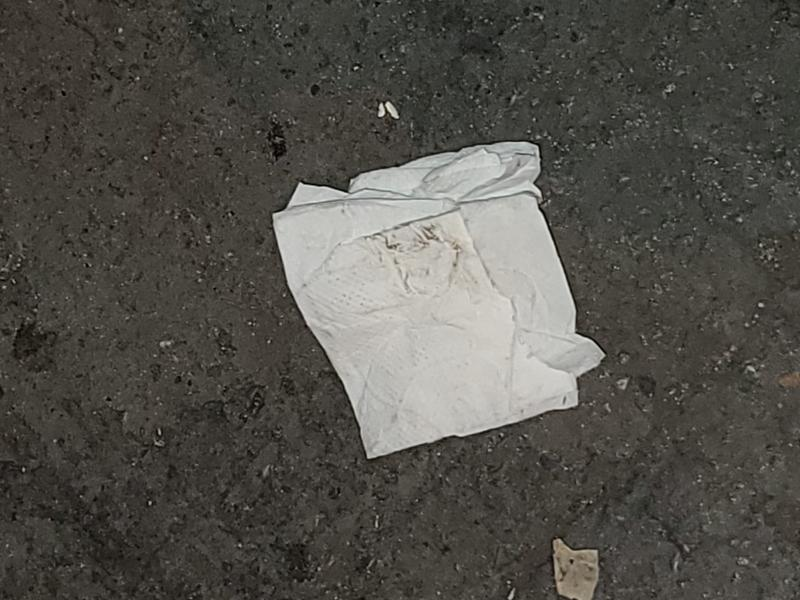papel: (270, 142, 606, 461)
